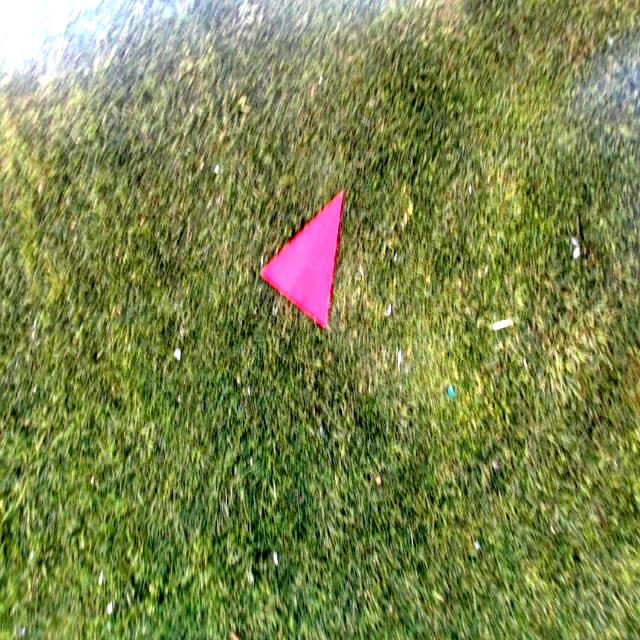red_triangle: (263, 188, 343, 327)
